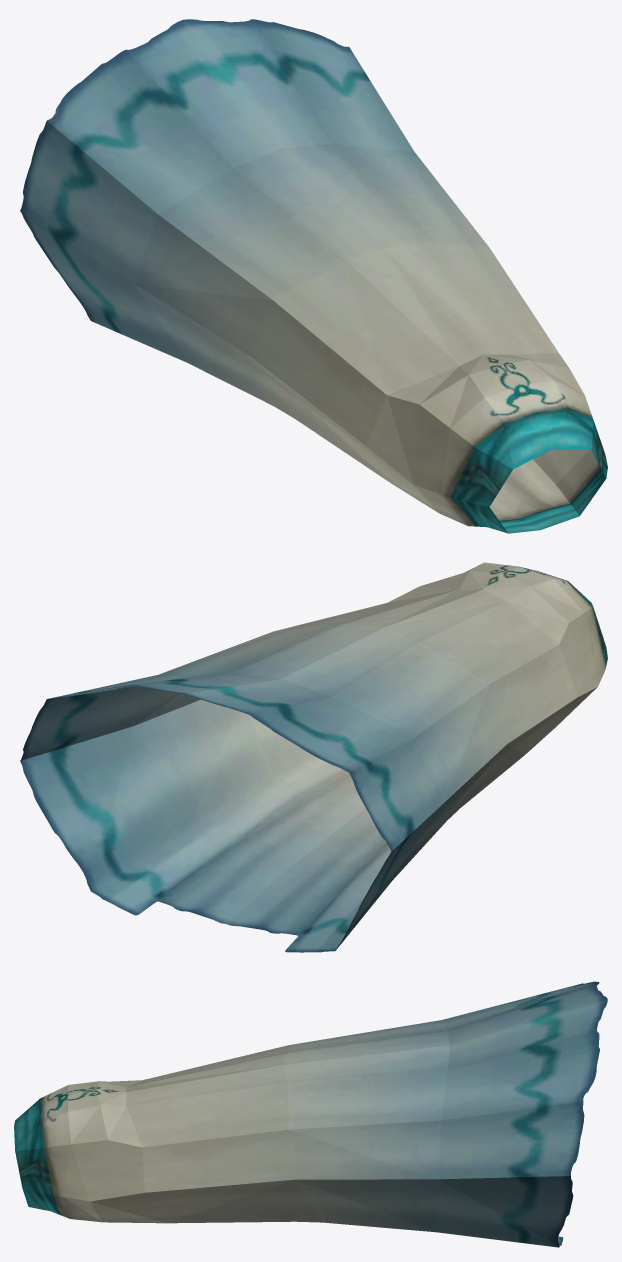
The model's file is priest_trousers_female_50000.obj.
3 renders of one model, top to bottom at view 1: azimuth 30°, elevation 25°; view 2: azimuth 150°, elevation 25°; view 3: azimuth 270°, elevation 25°, orthographic. The views are drawn at different scales.
Parts seen in each view (by area): view 1: priest_trousers_female_50000; view 2: priest_trousers_female_50000; view 3: priest_trousers_female_50000.
Boxes of the visible parts, x1,y1,x2,y2 form: priest_trousers_female_50000: (20, 19, 607, 533); priest_trousers_female_50000: (20, 562, 607, 952); priest_trousers_female_50000: (14, 981, 607, 1247).
Bounding box in the file's own units: 32.07 × 21.65 × 54.93.
Materials: 1 (1 with a texture image).
